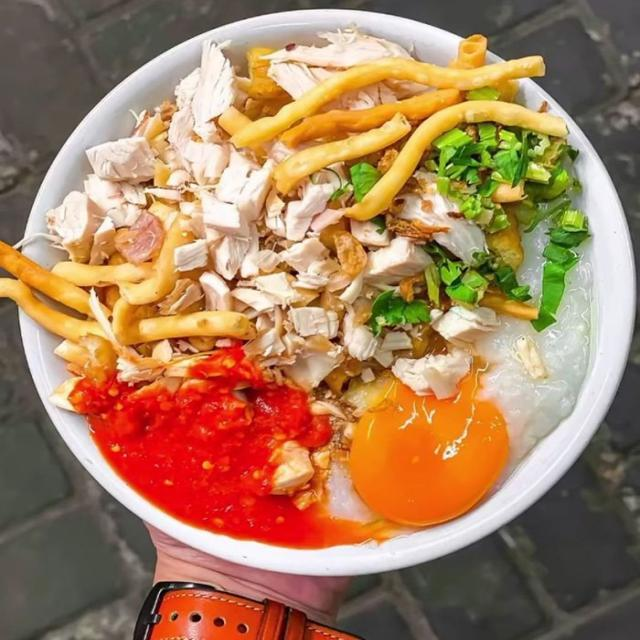bubur ayam: (55, 24, 599, 552)
mangkuk: (8, 8, 632, 606)
